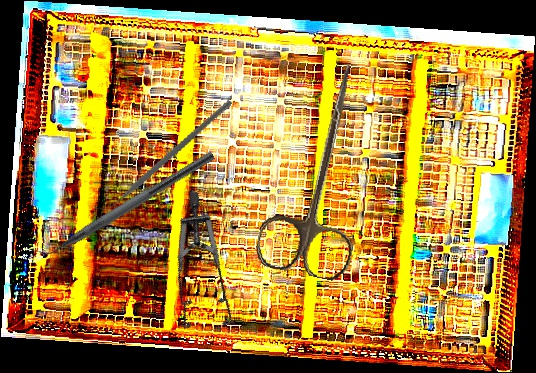Chopper: (27, 138, 216, 270), (92, 71, 233, 239)
Iris Scissors: (252, 53, 391, 284)
Speculum: (133, 189, 281, 348)
